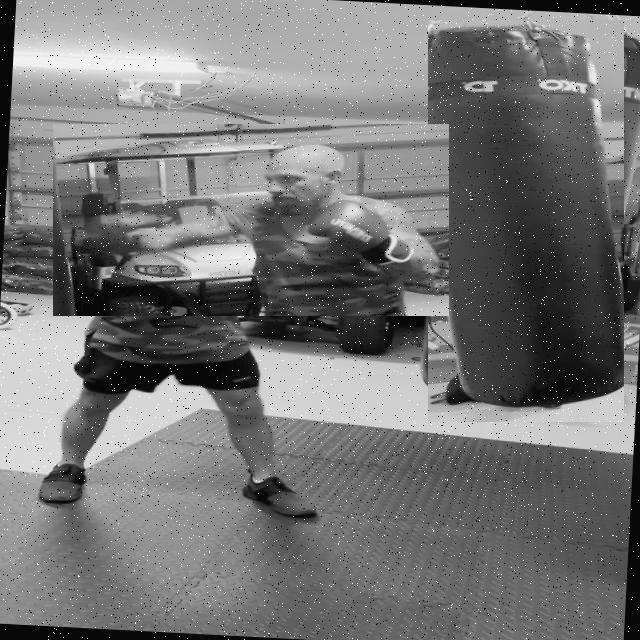punch: (53, 124, 449, 316)
